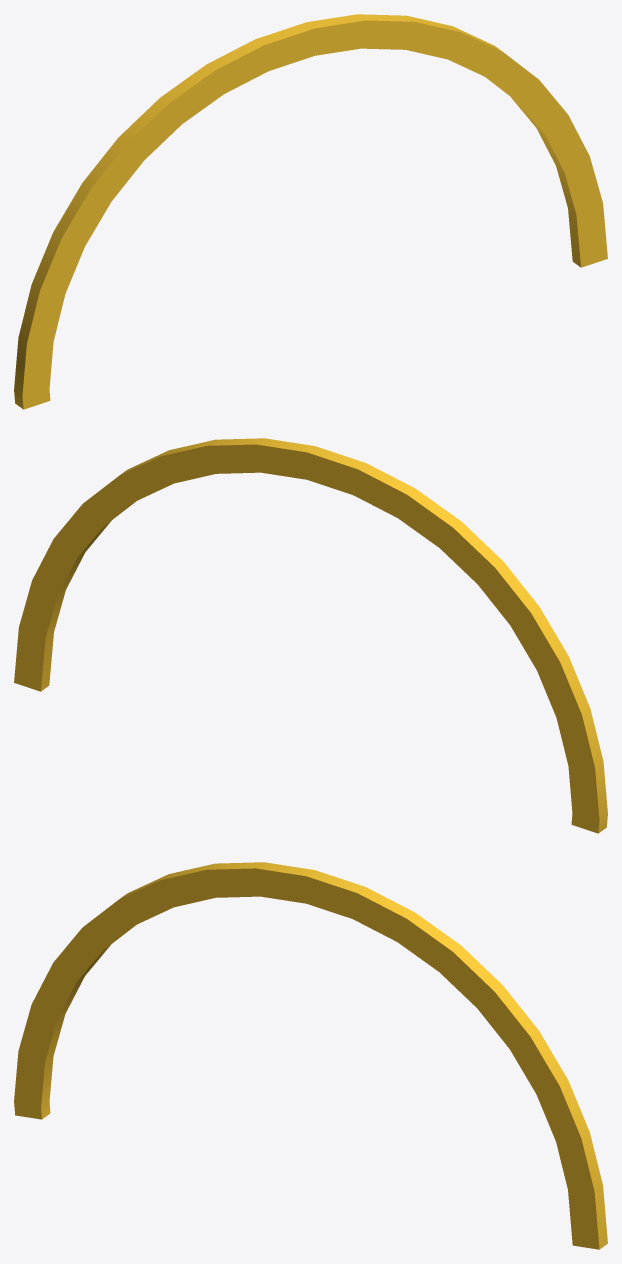
File: RingCloud.fbx
3 renders of one model, top to bottom at view 1: azimuth 30°, elevation 25°; view 2: azimuth 150°, elevation 25°; view 3: azimuth 330°, elevation 25°, orthographic.
Visible parts, largest first — view 1: Group1; view 2: Group1; view 3: Group1.
Boxes of the visible parts, x1,y1,x2,y2 form: Group1: (14,14,607,409); Group1: (14,438,607,833); Group1: (14,862,607,1249).
Bounding box in the file's own units: 400 × 202 × 10.
